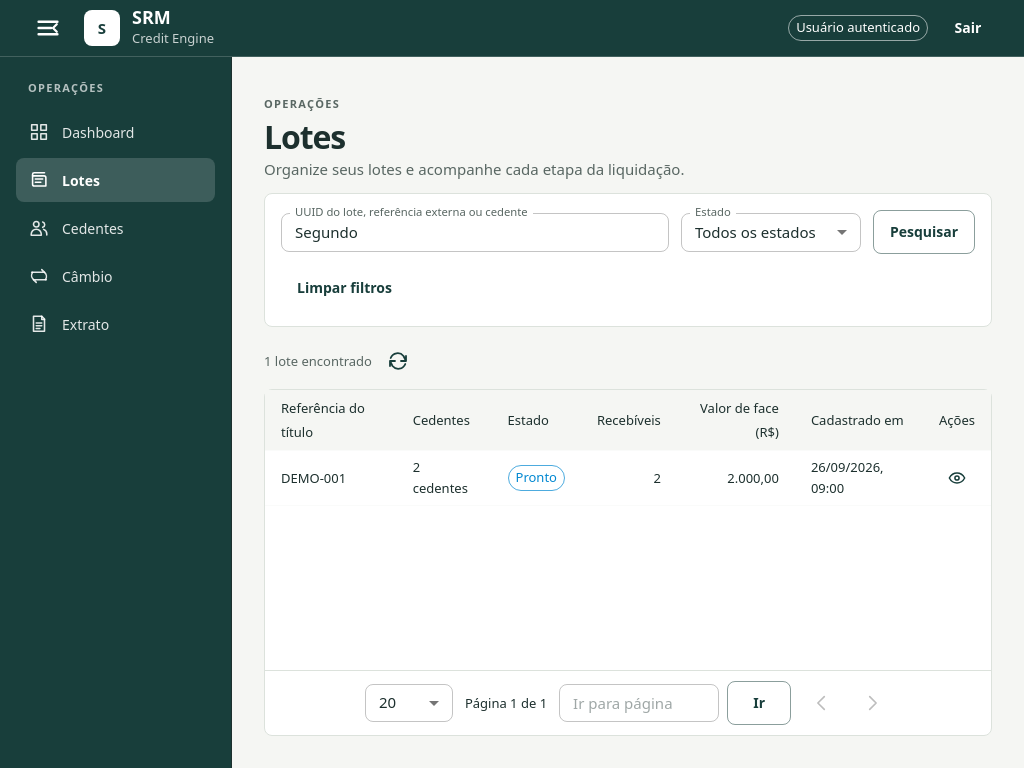
Test: busca por qualquer cedente mantém lote misto completo; gestor só consulta
This screenshot has width=1024, height=768.
Expected: the table shows "2.000,00", [727, 469, 779, 487]
Click the link named "Ver detalhe": (957, 478) [947, 468, 967, 488]
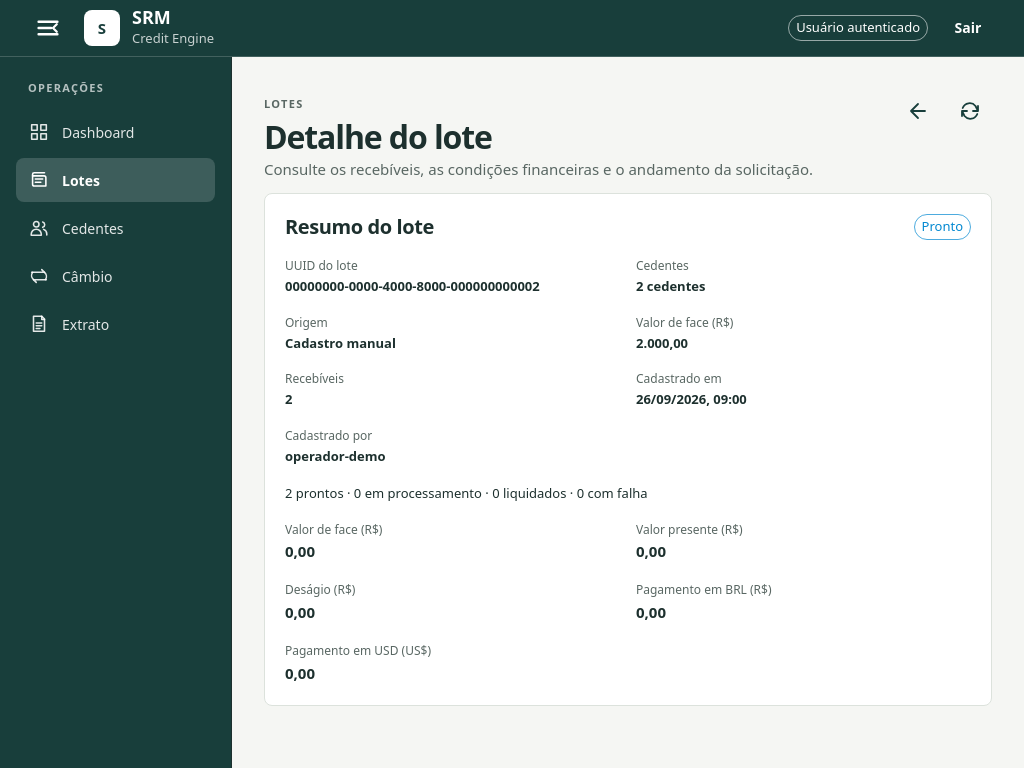
Click the link named "Voltar": (918, 111) [906, 99, 930, 123]
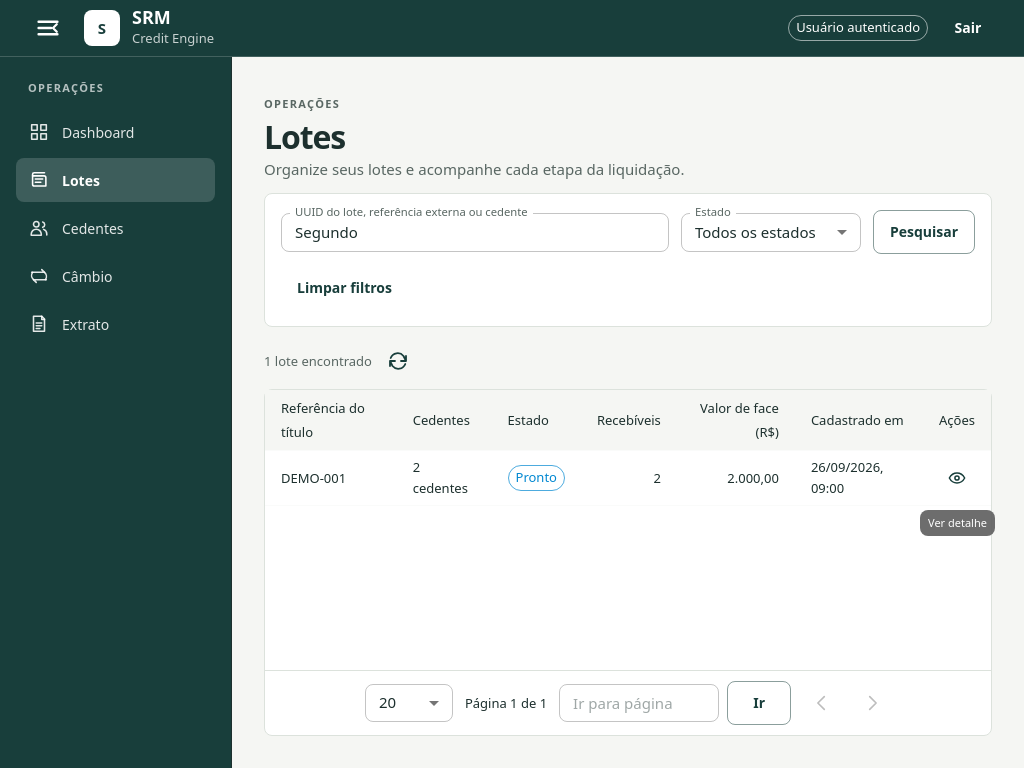
Result: the search field holds "Segundo" at [281, 213, 669, 252]
